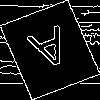A: (24, 25, 78, 80)
